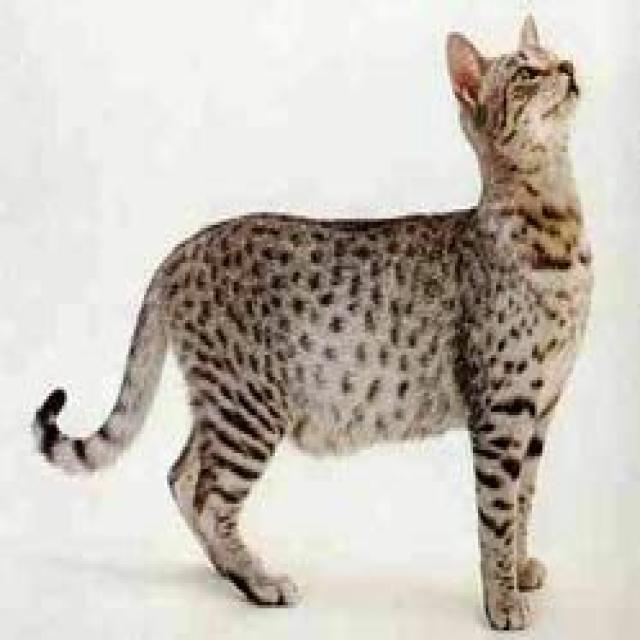Egyptian_Mau: (445, 13, 578, 136)
